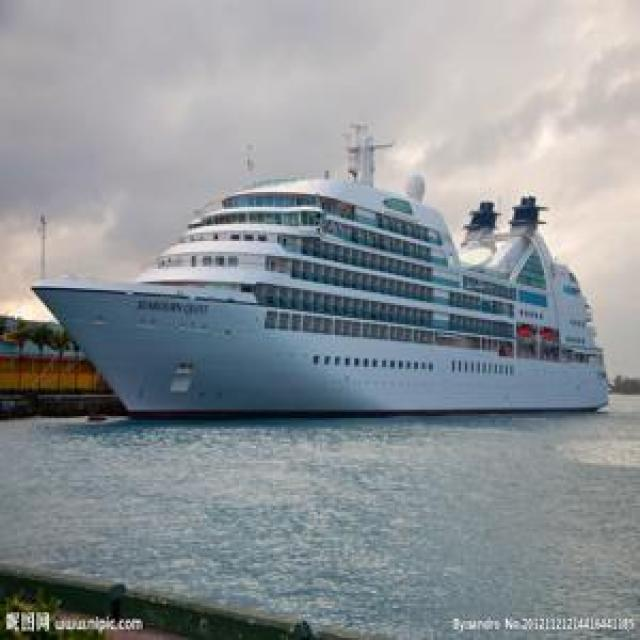passenger ship: (25, 132, 607, 418)
